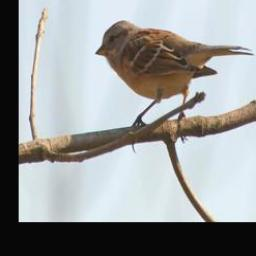Sparrow: (93, 18, 256, 152)
